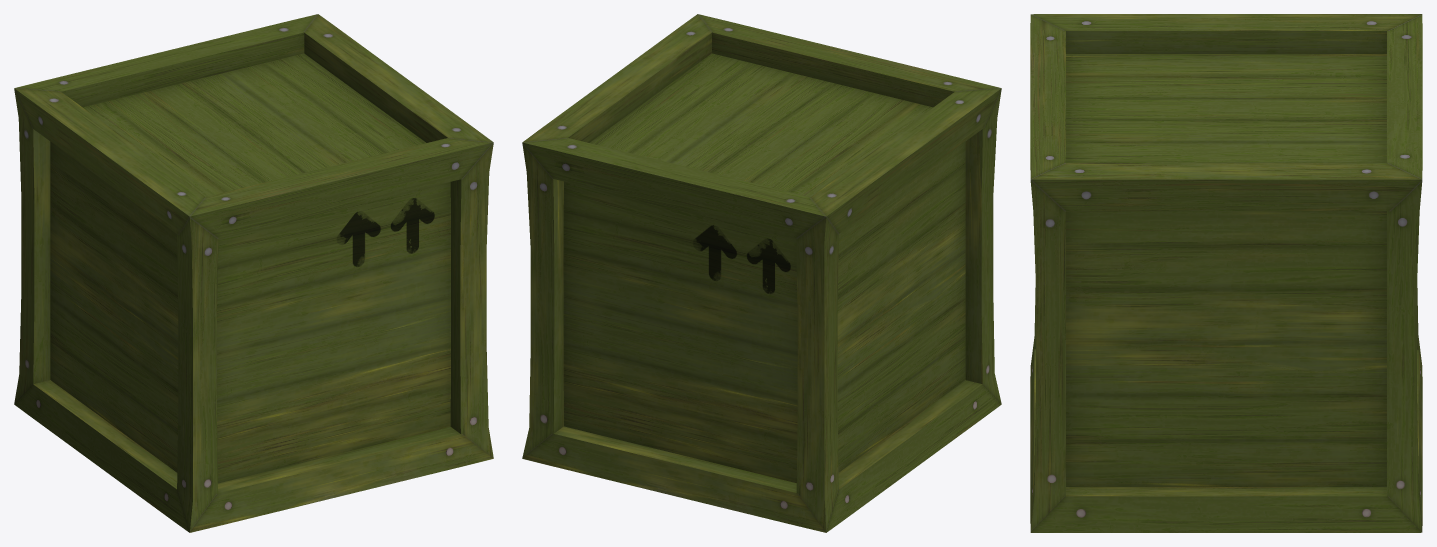
The model's file is Crate01.FBX.
3 views of the same model, side by side, from view 1: azimuth 30°, elevation 25°; view 2: azimuth 150°, elevation 25°; view 3: azimuth 270°, elevation 25° (orthographic). The views are drawn at different scales.
Visible parts, largest first — view 1: Crate01; view 2: Crate01; view 3: Crate01.
Part boxes in pixels (x1=…): Crate01: x1=14, y1=14, x2=493, y2=532; Crate01: x1=522, y1=14, x2=1001, y2=532; Crate01: x1=1030, y1=14, x2=1422, y2=532.
Size of what is drawn, in the model's own units: 0.8095 by 0.8056 by 0.8093.
